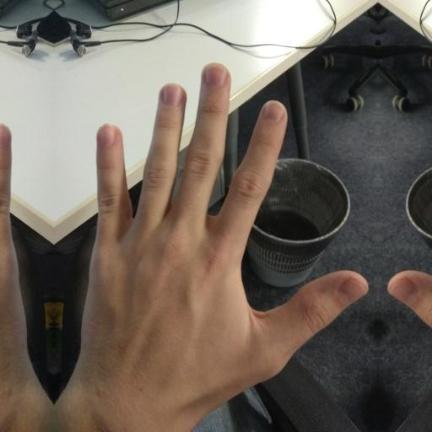Nail: (338, 279, 368, 304), (388, 279, 418, 304), (263, 101, 285, 122), (206, 64, 227, 86), (163, 84, 182, 106), (99, 124, 116, 147), (0, 124, 9, 147)
